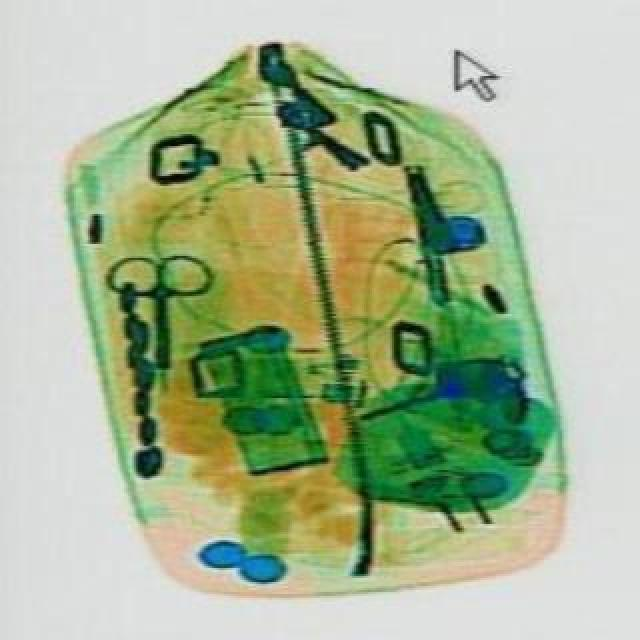pliers: (100, 252, 214, 370)
